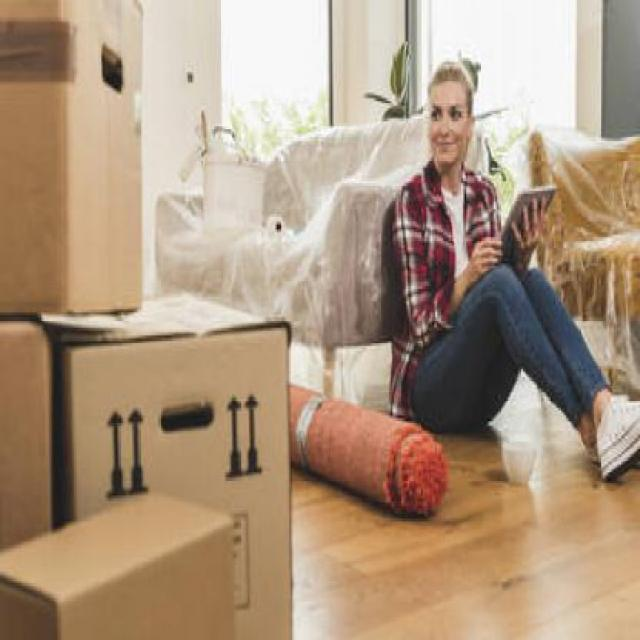box: (57, 295, 296, 640), (0, 0, 148, 318), (0, 486, 240, 640), (0, 324, 58, 562)
